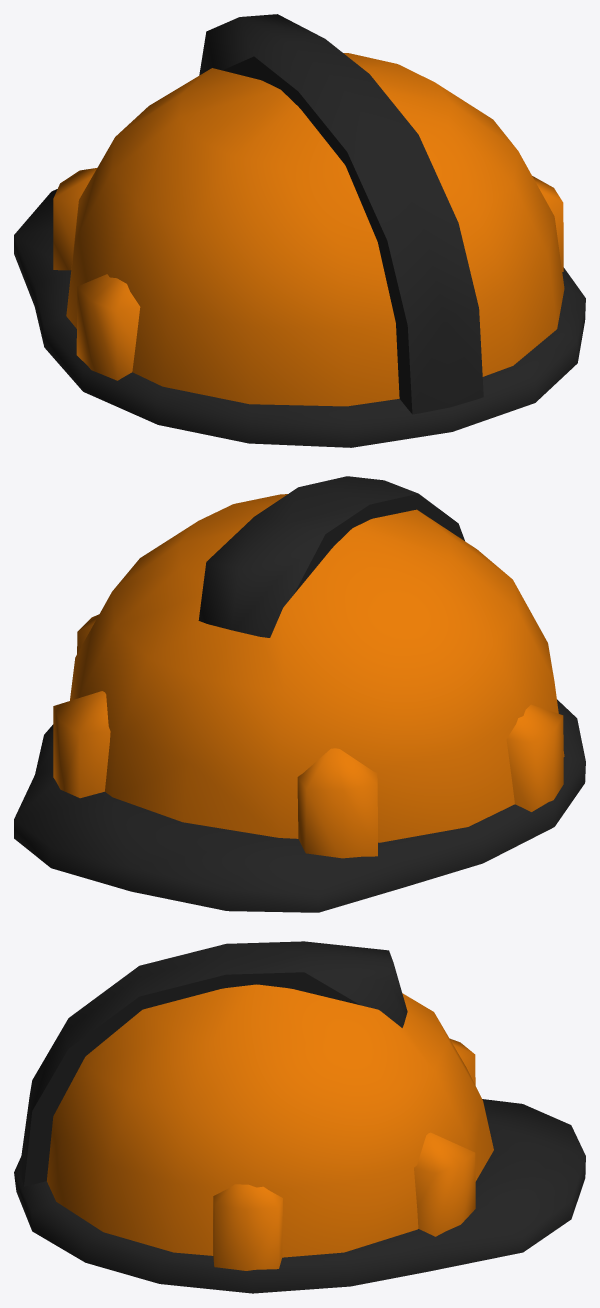
Rendered from TurboBuildersClubHardHat.obj.
3 renders of one model, top to bottom at view 1: azimuth 30°, elevation 25°; view 2: azimuth 150°, elevation 25°; view 3: azimuth 270°, elevation 25°, orthographic. The views are drawn at different scales.
Parts seen in each view (by area): view 1: Turbo Builder's Club Hard Hat; view 2: Turbo Builder's Club Hard Hat; view 3: Turbo Builder's Club Hard Hat.
Part boxes in pixels (x1,y1,x2,y2): Turbo Builder's Club Hard Hat: (14,14,585,447); Turbo Builder's Club Hard Hat: (14,476,585,912); Turbo Builder's Club Hard Hat: (14,941,585,1293).
Size of the model in its own units: 1.38 by 0.7541 by 1.64.
Materials: 1 (1 with a texture image).
